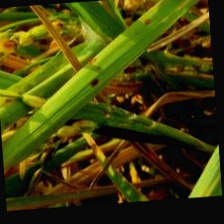Bacterial_Leaf_Blight: (85, 75, 102, 89), (136, 18, 158, 27)
